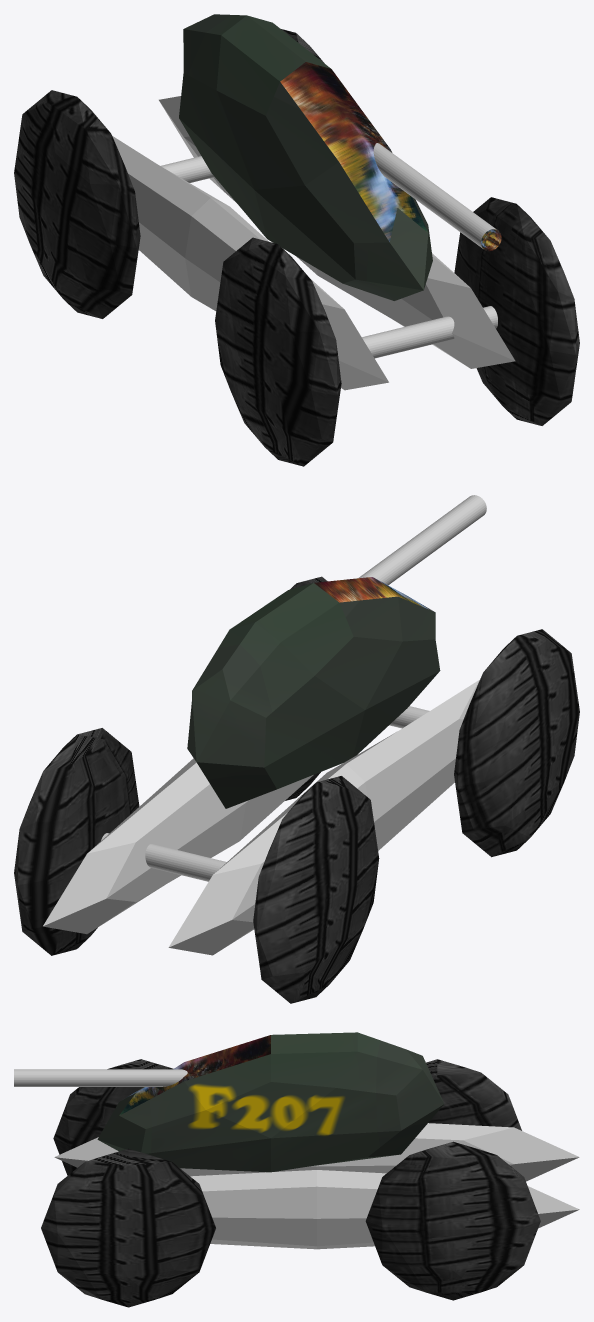
Rendered from Car.FBX.
3 views of the same model, one above another, from view 1: azimuth 30°, elevation 25°; view 2: azimuth 150°, elevation 25°; view 3: azimuth 270°, elevation 25° (orthographic). The views are drawn at different scales.
Parts seen in each view (by area): view 1: Cube, Right_Front, Right_Back, Left_Front, Cube_002, Cube_001, Cylinder_002, Cylinder_001, Cylinder; view 2: Cube, Right_Front, Right_Back, Cube_002, Left_Back, Cube_001, Cylinder_002, Cylinder; view 3: Cube, Left_Back, Left_Front, Cube_001, Cube_002, Right_Back, Right_Front, Cylinder_002.
Part boxes in pixels (box(x1,y1,x2,y2)): Cube: box(179, 14, 432, 300); Right_Front: box(215, 237, 341, 466); Right_Back: box(14, 90, 140, 318); Left_Front: box(454, 197, 579, 425); Cube_002: box(112, 136, 388, 390); Cube_001: box(159, 96, 515, 368); Cylinder_002: box(373, 143, 501, 251); Cylinder_001: box(362, 306, 497, 358); Cylinder: box(161, 156, 214, 182); Cube: box(187, 577, 440, 808); Right_Front: box(454, 629, 579, 857); Right_Back: box(253, 776, 379, 1003); Cube_002: box(168, 680, 479, 955); Left_Back: box(14, 728, 139, 955); Cube_001: box(43, 758, 313, 934); Cylinder_002: box(358, 495, 486, 585); Cylinder: box(101, 833, 226, 881); Cube: box(97, 1032, 444, 1172); Left_Back: box(365, 1141, 540, 1300); Left_Front: box(41, 1148, 215, 1307); Cube_001: box(190, 1170, 579, 1249); Cube_002: box(54, 1123, 579, 1181); Right_Back: box(426, 1059, 521, 1130); Right_Front: box(53, 1059, 173, 1175); Cylinder_002: box(14, 1069, 187, 1086).
Bounding box in the file's own units: 8.82 × 9.6 × 21.04.
